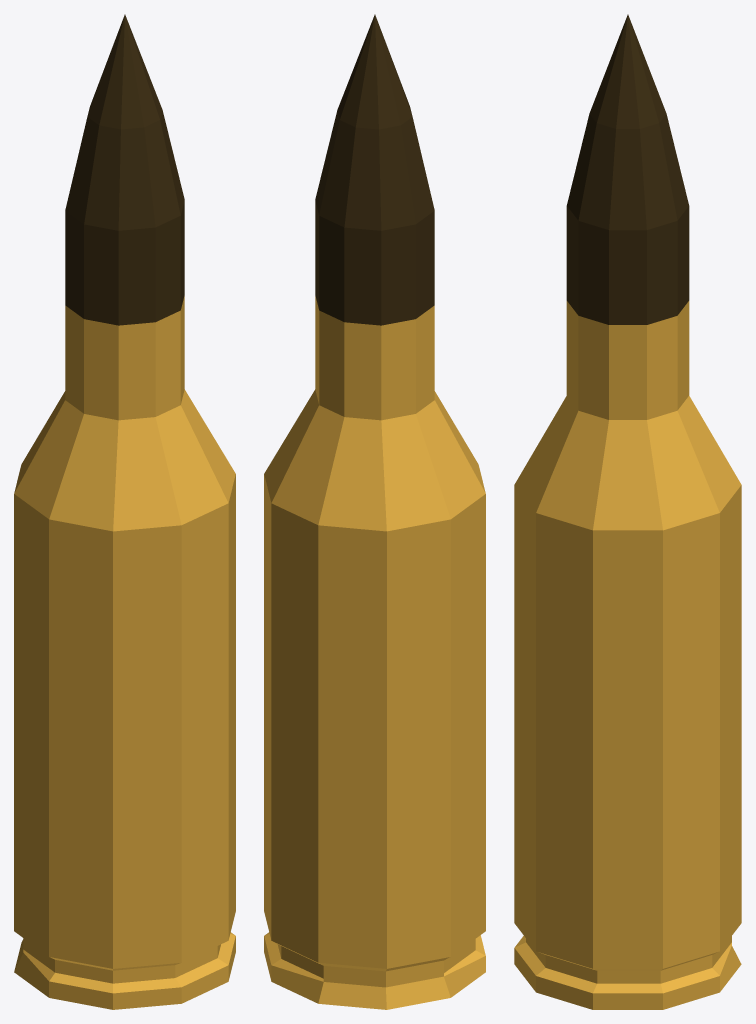
Rendered from bullet.fbx.
3 views of the same model, side by side, from view 1: azimuth 30°, elevation 25°; view 2: azimuth 150°, elevation 25°; view 3: azimuth 270°, elevation 25° (orthographic).
Visible parts, largest first — view 1: Bullet; view 2: Bullet; view 3: Bullet.
Boxes of the visible parts, x1=… form: Bullet: x1=14, y1=14, x2=235, y2=1009; Bullet: x1=264, y1=14, x2=485, y2=1009; Bullet: x1=514, y1=14, x2=741, y2=1009.
Size of the model in its own units: 1.9 by 9.23 by 2.
